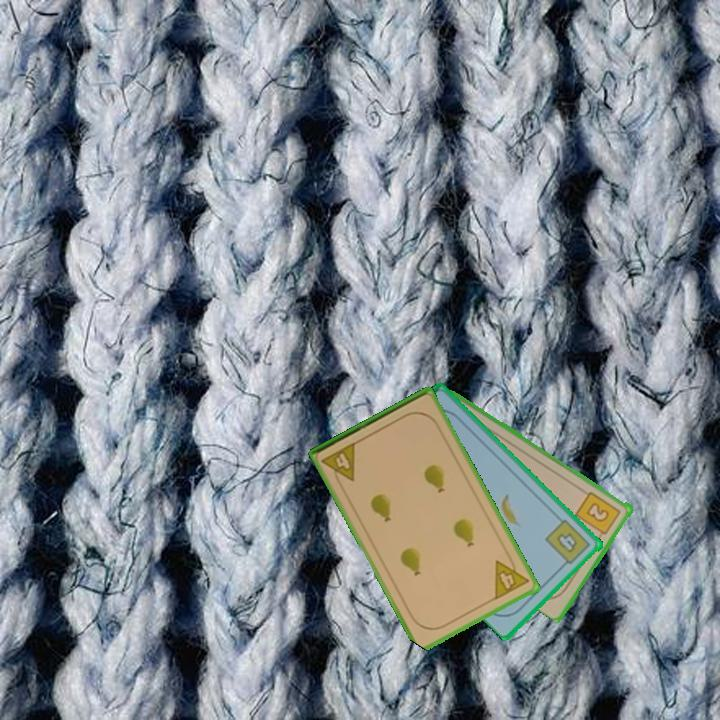2b: (572, 488, 624, 542)
4b: (542, 516, 594, 570)
4p: (491, 551, 532, 603), (318, 438, 359, 489)
